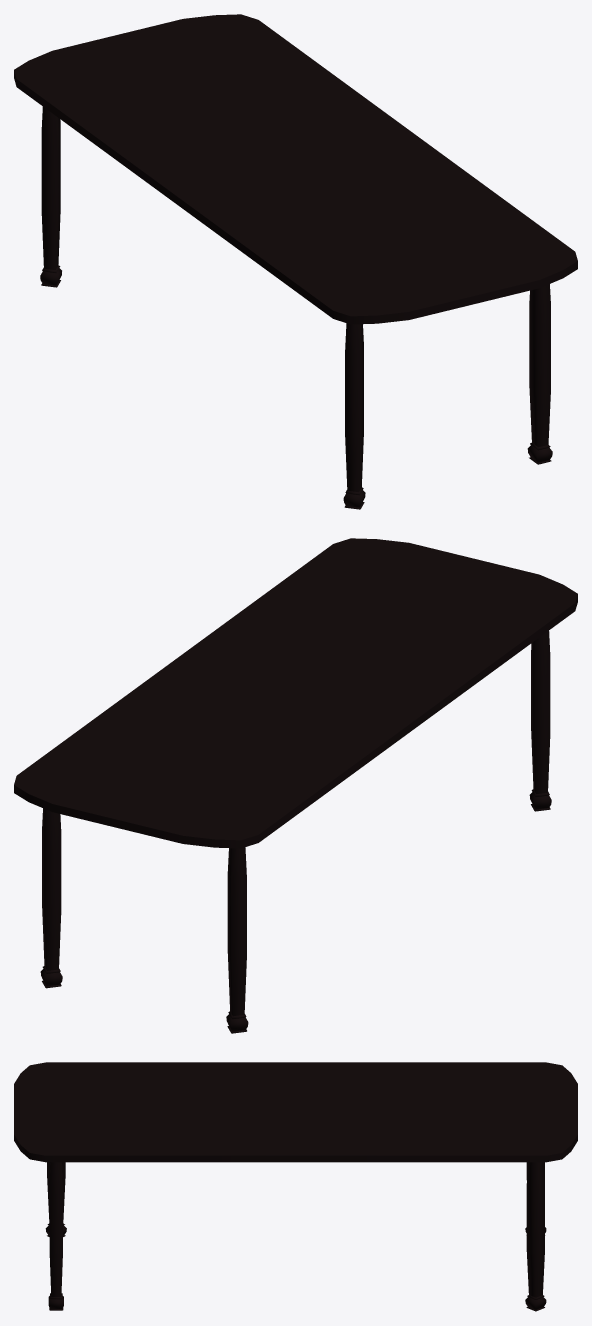
The model's file is BigTable.FBX.
3 views of the same model, one above another, from view 1: azimuth 30°, elevation 25°; view 2: azimuth 150°, elevation 25°; view 3: azimuth 270°, elevation 25° (orthographic). The views are drawn at different scales.
Parts seen in each view (by area): view 1: TableBig; view 2: TableBig; view 3: TableBig.
Boxes of the visible parts, box(x1,y1,x2,y2) form: TableBig: box(14, 14, 577, 509); TableBig: box(14, 538, 577, 1033); TableBig: box(14, 1062, 577, 1311).
Bounding box in the file's own units: 22.4 × 18.27 × 57.17.
Materials: 1 (1 with a texture image).
